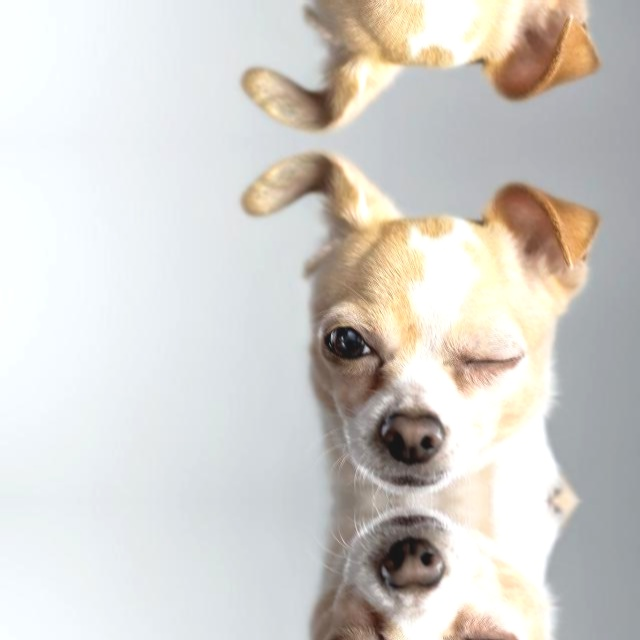dog: (222, 144, 631, 497), (222, 502, 631, 640), (222, 0, 631, 136)
